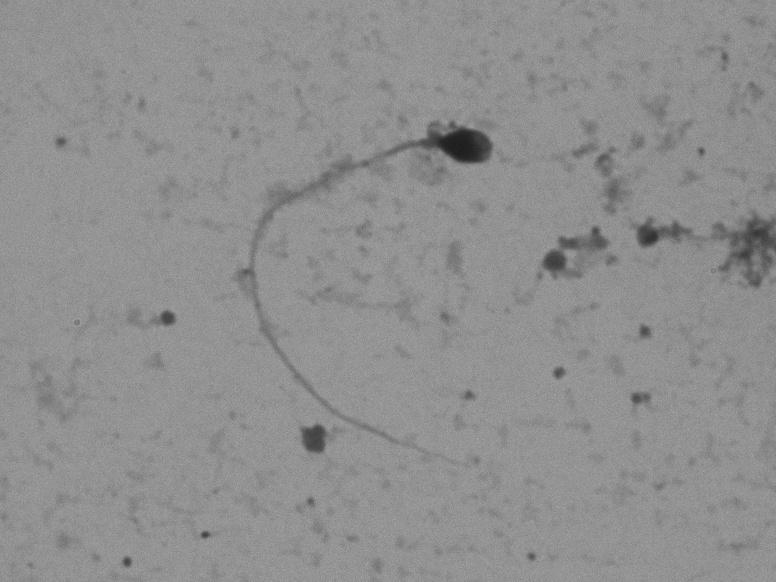Abnormal: (221, 91, 528, 492)
